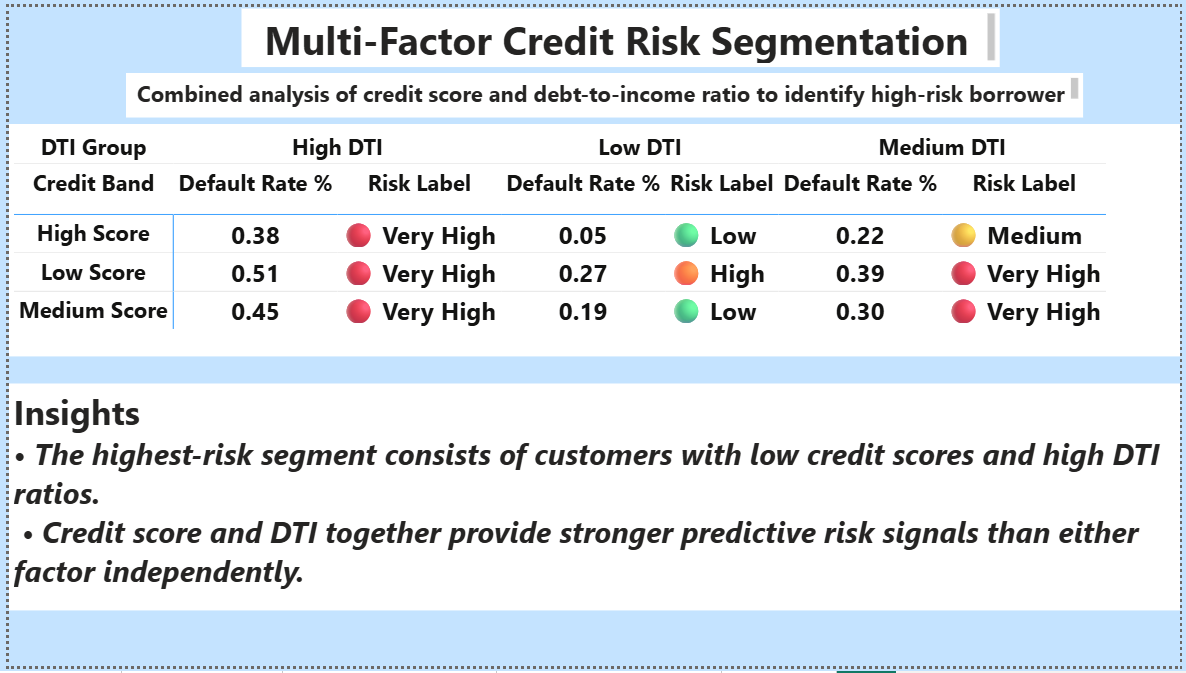

The page's visual inventory and layout, read from the dashboard file:
{"tool":"powerbi","page":{"name":"Risk Segmentation","canvas":[1280,720],"ordinal":2},"visuals":[{"type":"pivotTable","fields":{"Rows":["loan_data.Credit Band"],"Columns":["loan_data.DTI Group"],"Values":["loan_data.Default Rate %","loan_data.Risk Category"]},"box":[0,128.6,1280,254.3],"z":0},{"type":"textbox","box":[0,411.3,1280,247.7],"z":1000},{"type":"textbox","box":[254.3,1.4,828.6,64.3],"z":2000},{"type":"textbox","box":[128.6,71.4,1045.7,48.6],"z":3000}]}

Visuals, with their boxes in screenshot pixels (x1, y1, x2, y2), scaled from the page's 1280x720 canvas onto the 1186x673 screenshot:
pivotTable - loan_data.Credit Band x loan_data.DTI Group: {"x1": 0, "y1": 120, "x2": 1185, "y2": 358}
textbox: {"x1": 0, "y1": 384, "x2": 1185, "y2": 616}
textbox: {"x1": 236, "y1": 1, "x2": 1003, "y2": 61}
textbox: {"x1": 119, "y1": 67, "x2": 1088, "y2": 112}
